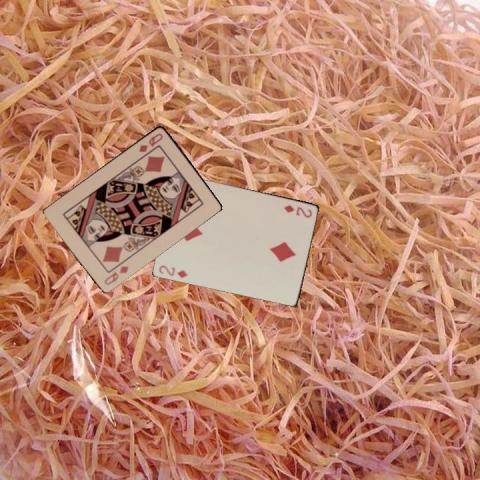2d: (156, 262, 189, 279), (282, 202, 314, 219)
Qd: (136, 130, 165, 153), (101, 263, 130, 286)
